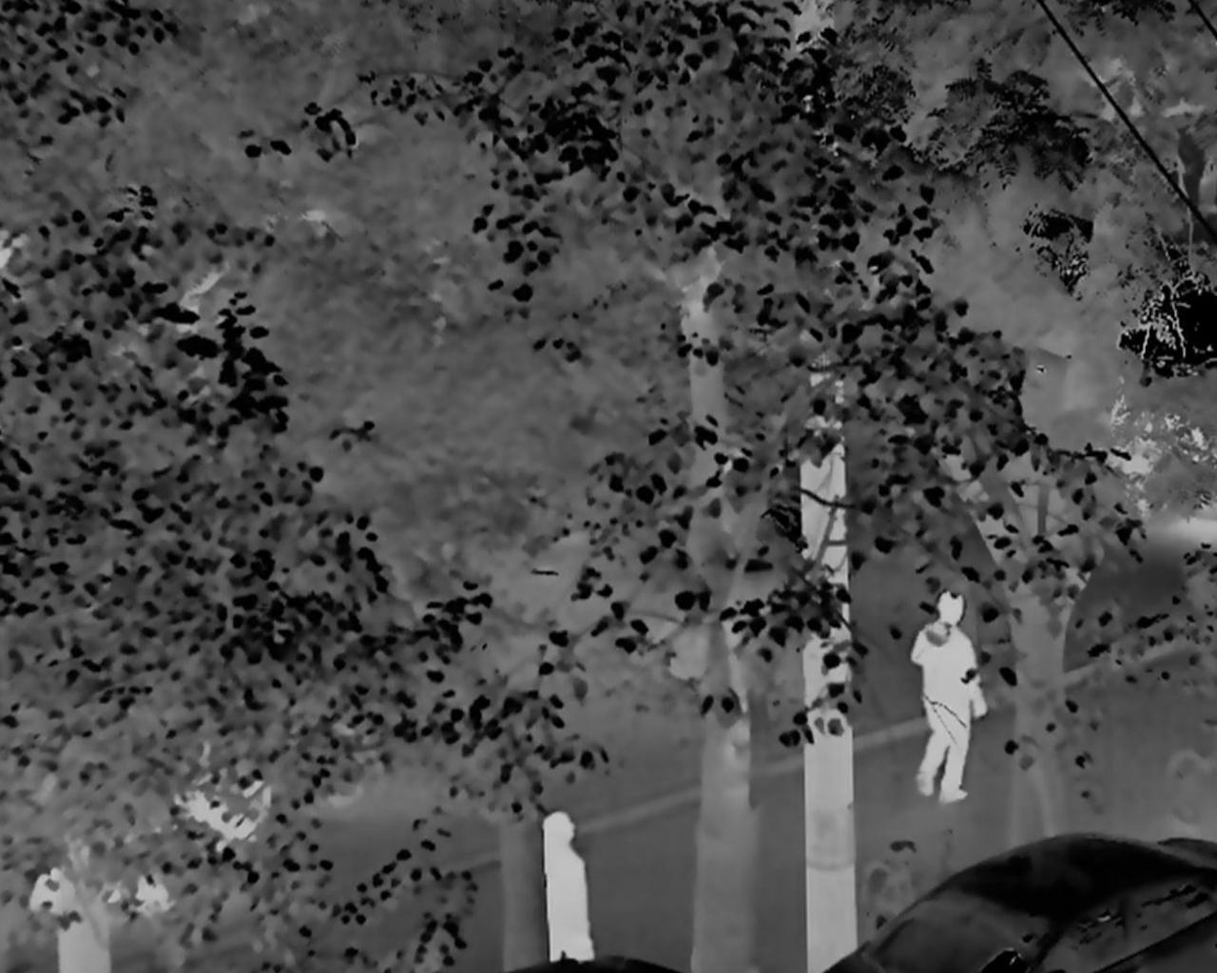person: (913, 590, 987, 804), (540, 804, 603, 973)
